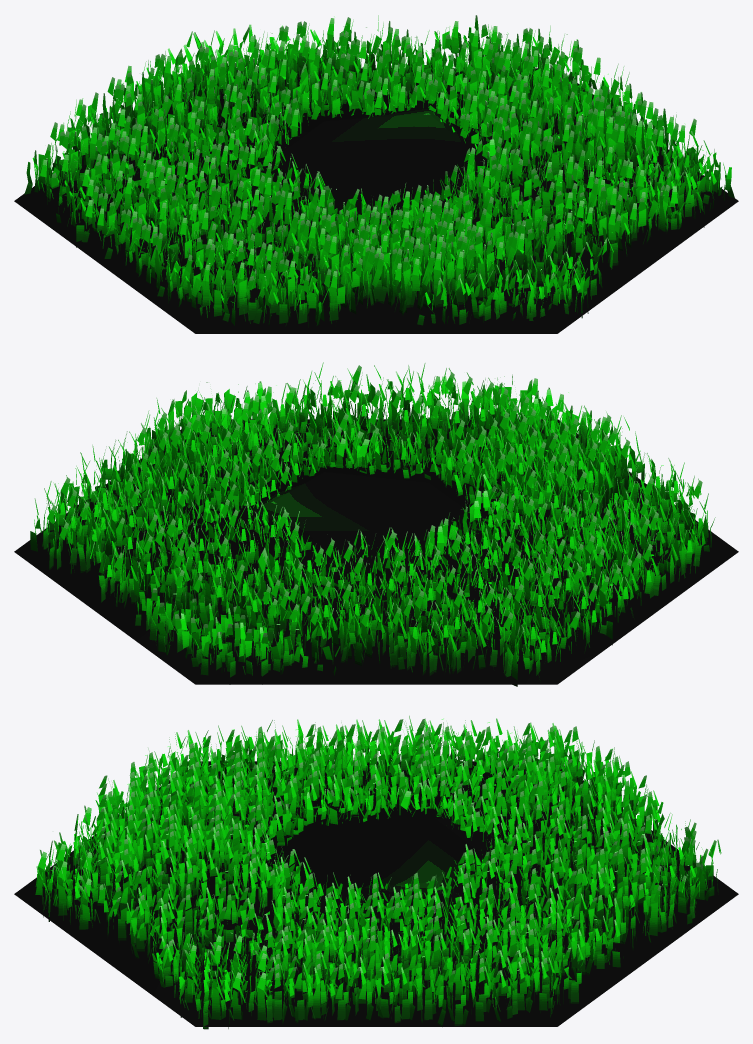
File: Grass_Coloured.fbx
3 renders of one model, top to bottom at view 1: azimuth 30°, elevation 25°; view 2: azimuth 150°, elevation 25°; view 3: azimuth 270°, elevation 25°, orthographic.
Parts seen in each view (by area): view 1: Grass, Ground; view 2: Grass, Ground; view 3: Grass, Ground.
Part boxes in pixels (<box>): Grass: <box>24,15,734,327</box>; Ground: <box>14,68,738,333</box>; Grass: <box>30,362,715,686</box>; Ground: <box>14,419,738,684</box>; Grass: <box>35,715,721,1029</box>; Ground: <box>14,761,738,1026</box>.
Size of the model in its own units: 162 by 24.84 by 187.
